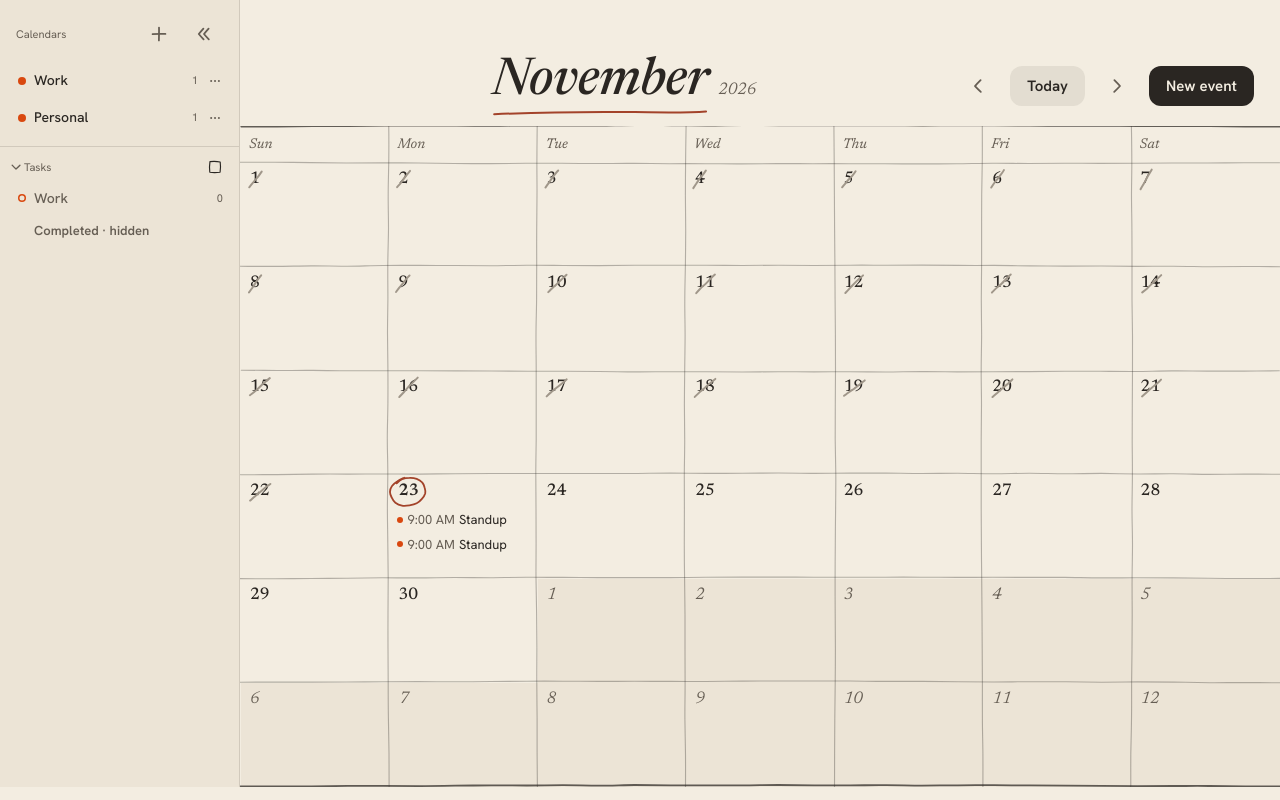
Scenario: aug19 stage 4b — chip, dot, agenda and popover identity › removes only the calendar copy that was deleted
The image size is (1280, 800).
Click the 1st button with class "cal-ev". click: [457, 520]
box: [407,511,507,528]
(page scrolled)
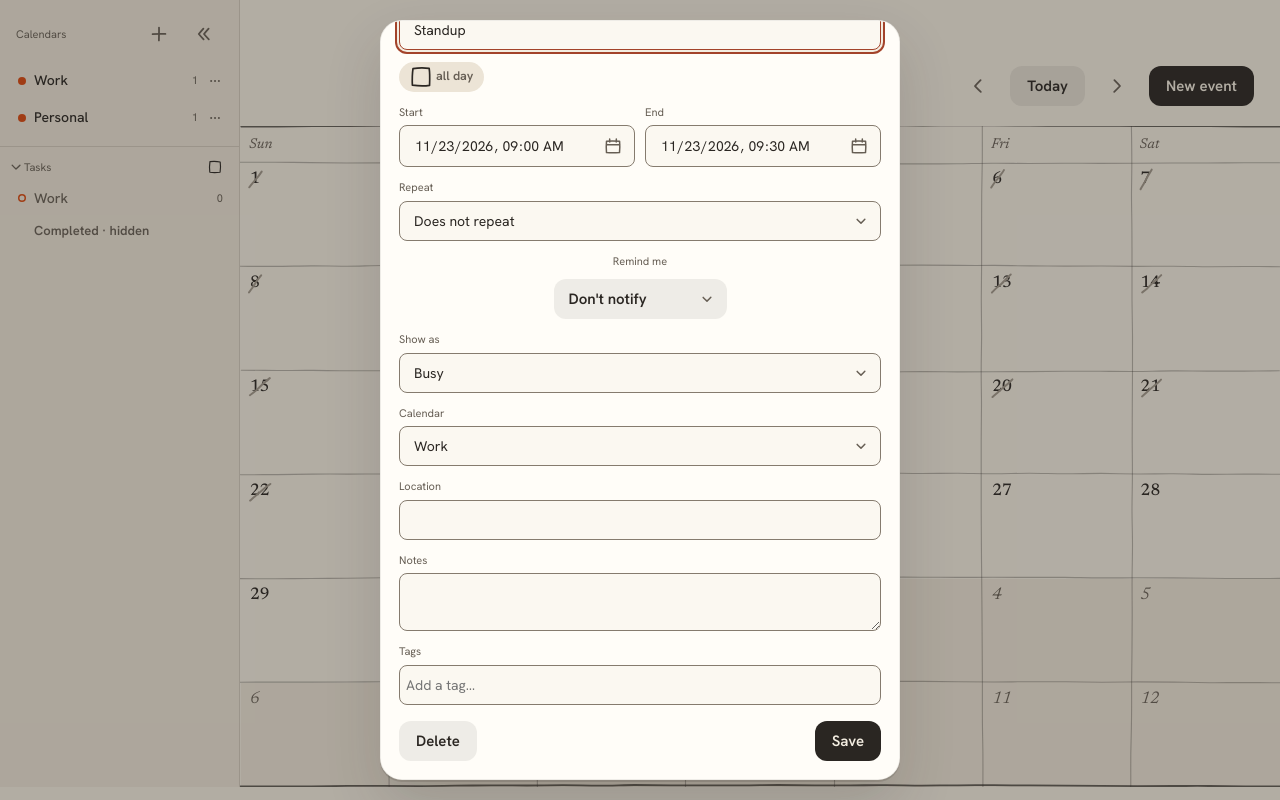
Click the button "Delete". click: [438, 740]
box: [399,720,477,760]
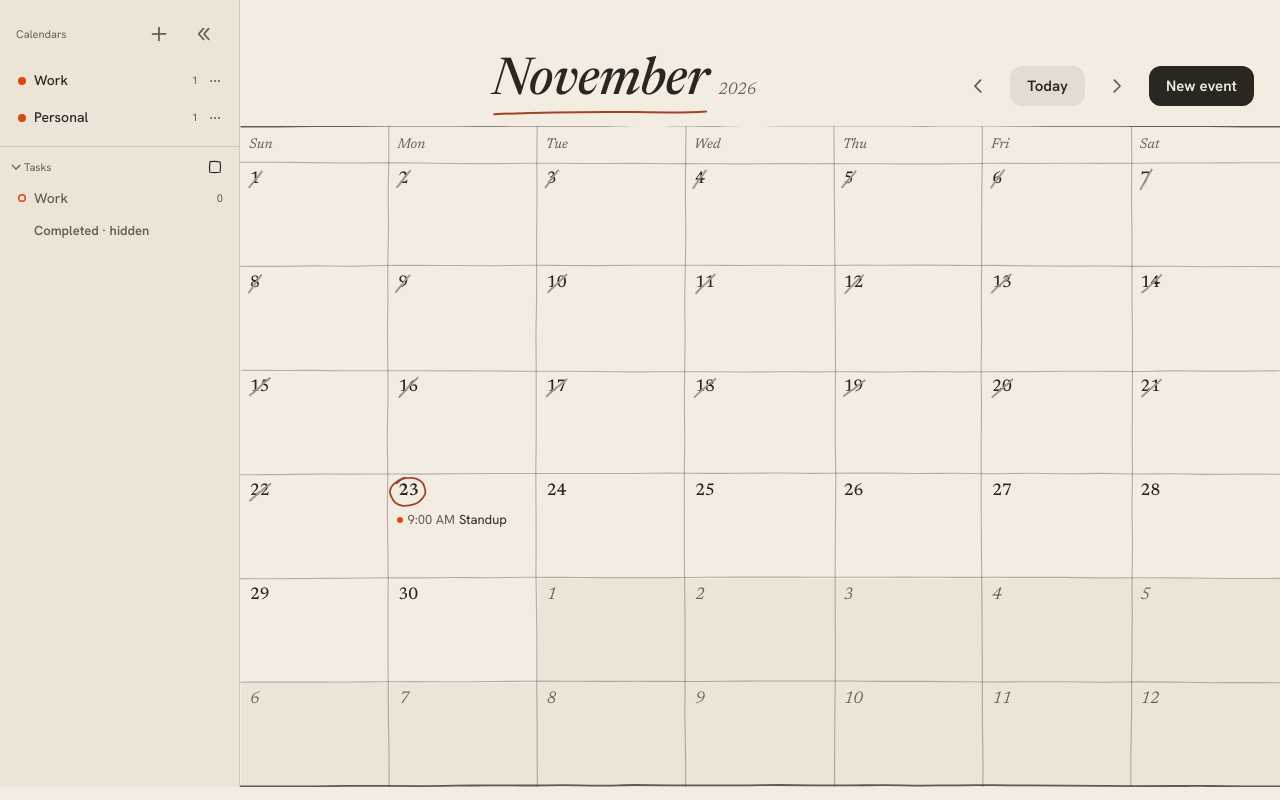
Check: the number of buttons with class "cal-ev" is 1, box [407,511,507,528]
